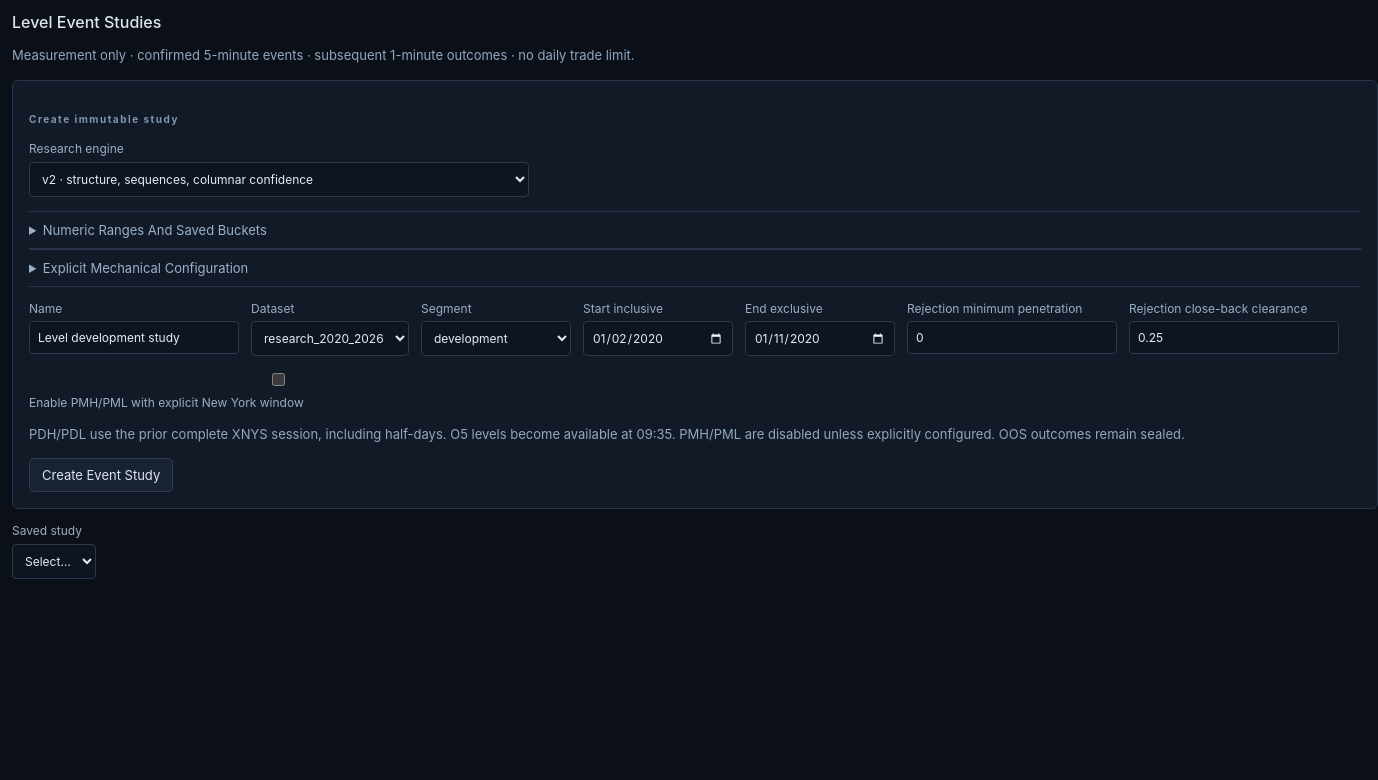
PM is disabled and must have explicit endpoints when enabled
Click the checkbox.
click(278, 380)  # box [33, 373, 524, 386]
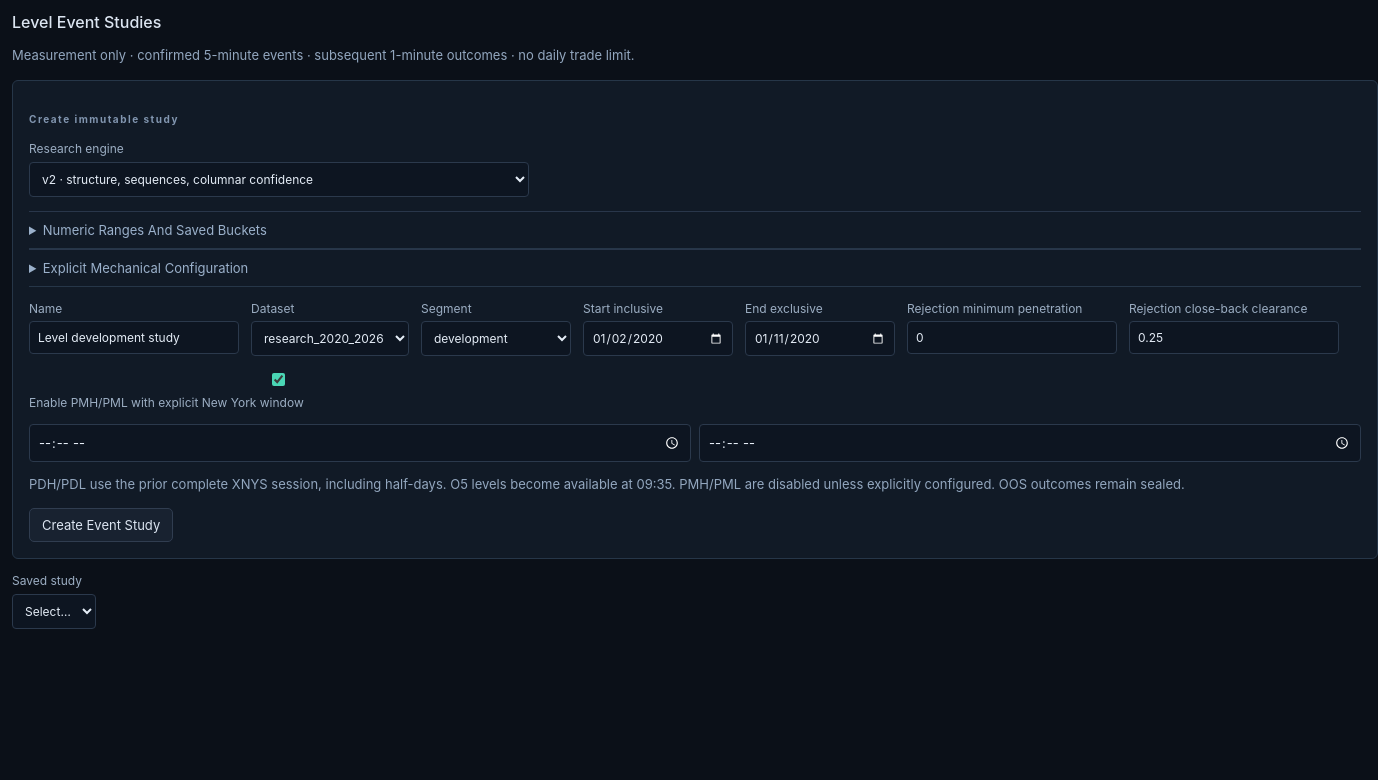
Click the button "Create Event Study".
click(101, 524)  # box [29, 508, 173, 542]
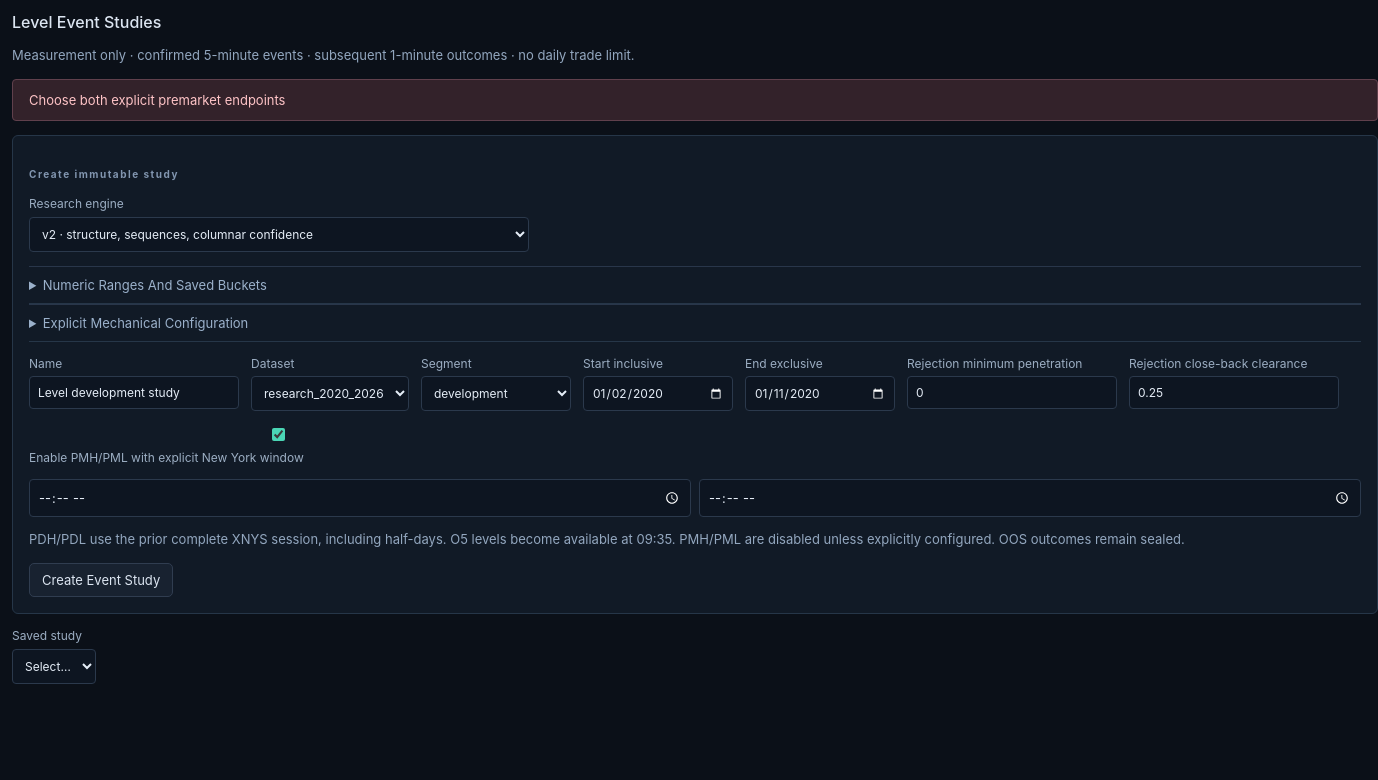
Check: the message "Choose both explicit premarket endpoints" is shown, box [12, 79, 1377, 121]
Check: the message shows "both explicit", box [29, 92, 286, 108]
